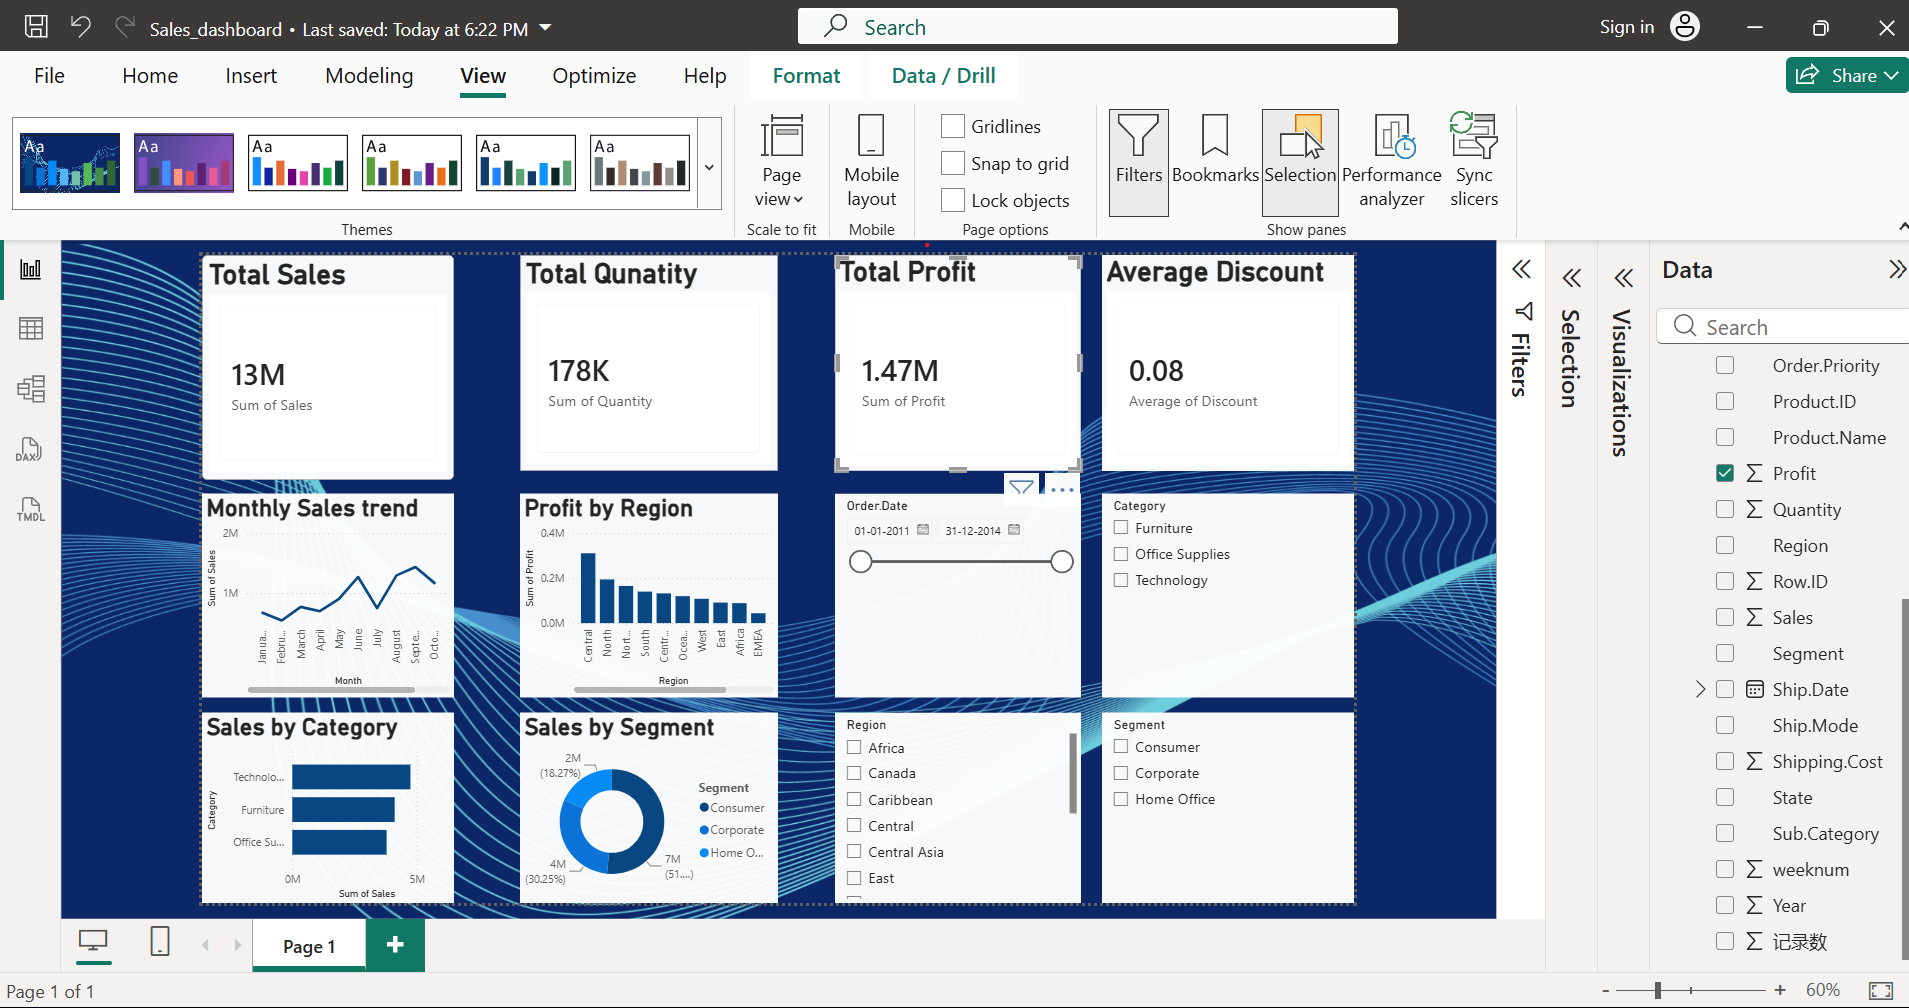

This screenshot's page, from the dashboard's own definition file:
{"tool":"powerbi","page":{"name":"Page 1","canvas":[1280,720],"ordinal":0},"visuals":[{"type":"cardVisual","title":"Total Sales","fields":{"Data":["Sum(superstore.Sales)"]},"box":[0,0,280,250],"z":0},{"type":"cardVisual","title":"Total Profit","fields":{"Data":["Sum(superstore.Profit)"]},"box":[703.3,0,273.3,240],"z":1000},{"type":"cardVisual","title":"Total Qunatity","fields":{"Data":["Sum(superstore.Quantity)"]},"box":[353.3,0,286.7,240],"z":2000},{"type":"cardVisual","title":"Average Discount","fields":{"Data":["Avg(superstore.Discount)"]},"box":[1000,0,280,240],"z":3000},{"type":"lineChart","title":"Monthly Sales trend","fields":{"Category":["superstore.Order.Date.Variation.Date Hierarchy.Month"],"Y":["Sum(superstore.Sales)"]},"box":[0,265,280,226.7],"z":4000},{"type":"clusteredBarChart","title":"Sales by Category","fields":{"Y":["Sum(superstore.Sales)"],"Category":["superstore.Category"]},"box":[0,508.3,280,211.7],"z":5000},{"type":"clusteredColumnChart","title":"Profit by Region","fields":{"Category":["superstore.Region"],"Y":["Sum(superstore.Profit)"]},"box":[353.3,265,286.7,226.7],"z":6000},{"type":"donutChart","title":"Sales by Segment","fields":{"Category":["superstore.Segment"],"Y":["Sum(superstore.Sales)"]},"box":[353.3,508.3,286.7,211.7],"z":7000},{"type":"slicer","fields":{"Values":["superstore.Order.Date"]},"box":[703.3,265,273.3,226.7],"z":8000},{"type":"slicer","fields":{"Values":["superstore.Region"]},"box":[703.3,508.3,273.3,211.7],"z":9000},{"type":"slicer","fields":{"Values":["superstore.Category"]},"box":[1000,265,280,226.7],"z":10000},{"type":"slicer","fields":{"Values":["superstore.Segment"]},"box":[1000,508.3,280,211.7],"z":11000}]}

Visuals, with their boxes on the page's 1280x720 design canvas (x1, y1, x2, y2). These are canvas units, not pixel positions in the 1909x1008 screenshot, which may show the page scaled, cropped or inside an application window:
"Total Sales" cardVisual: <bbox>0, 0, 280, 250</bbox>
"Total Profit" cardVisual: <bbox>703, 0, 977, 240</bbox>
"Total Qunatity" cardVisual: <bbox>353, 0, 640, 240</bbox>
"Average Discount" cardVisual: <bbox>1000, 0, 1280, 240</bbox>
"Monthly Sales trend" lineChart: <bbox>0, 265, 280, 492</bbox>
"Sales by Category" clusteredBarChart: <bbox>0, 508, 280, 720</bbox>
"Profit by Region" clusteredColumnChart: <bbox>353, 265, 640, 492</bbox>
"Sales by Segment" donutChart: <bbox>353, 508, 640, 720</bbox>
slicer - superstore.Order.Date: <bbox>703, 265, 977, 492</bbox>
slicer - superstore.Region: <bbox>703, 508, 977, 720</bbox>
slicer - superstore.Category: <bbox>1000, 265, 1280, 492</bbox>
slicer - superstore.Segment: <bbox>1000, 508, 1280, 720</bbox>
